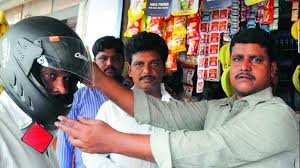helmet: (1, 9, 92, 129)
